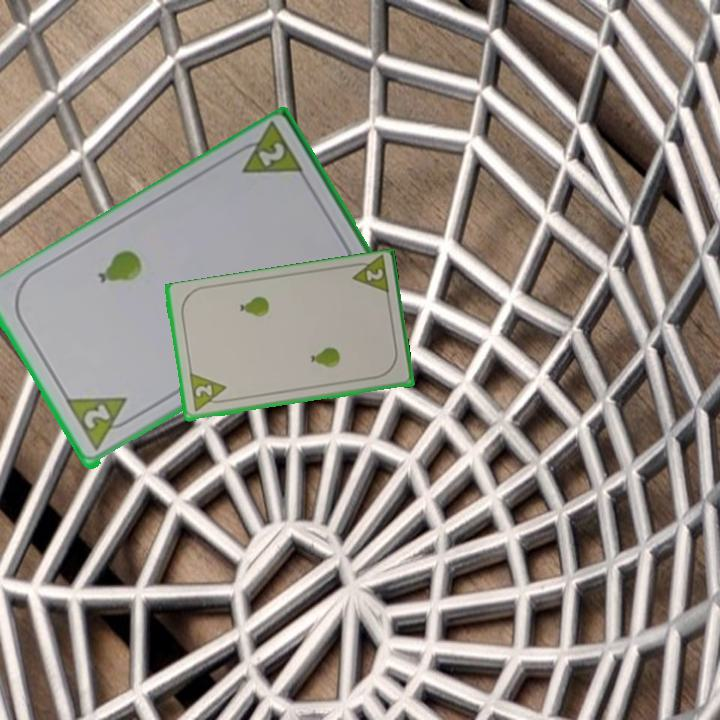2p: (346, 255, 392, 299), (185, 371, 230, 415), (79, 401, 113, 433), (254, 139, 288, 170)
